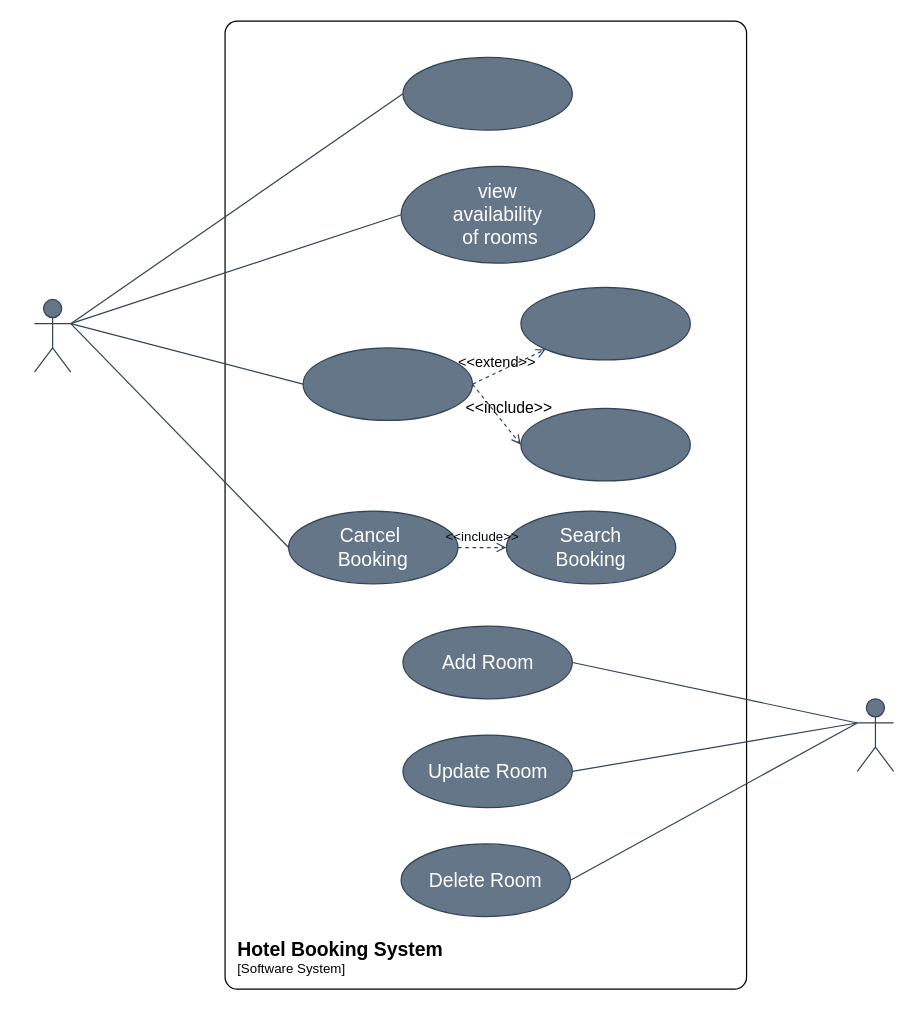
Image size: 916x1010. Some labels were removed from this diagram. The shapes that lost their labels are listed below. From the top down, each one's box as (x1, y1, x2, y2) in pixels, then its label:
(402, 56, 572, 130): Create Account
(520, 286, 690, 360): Generate Invoice
(302, 347, 473, 420): Book Room
(520, 407, 690, 481): Payment for Room
